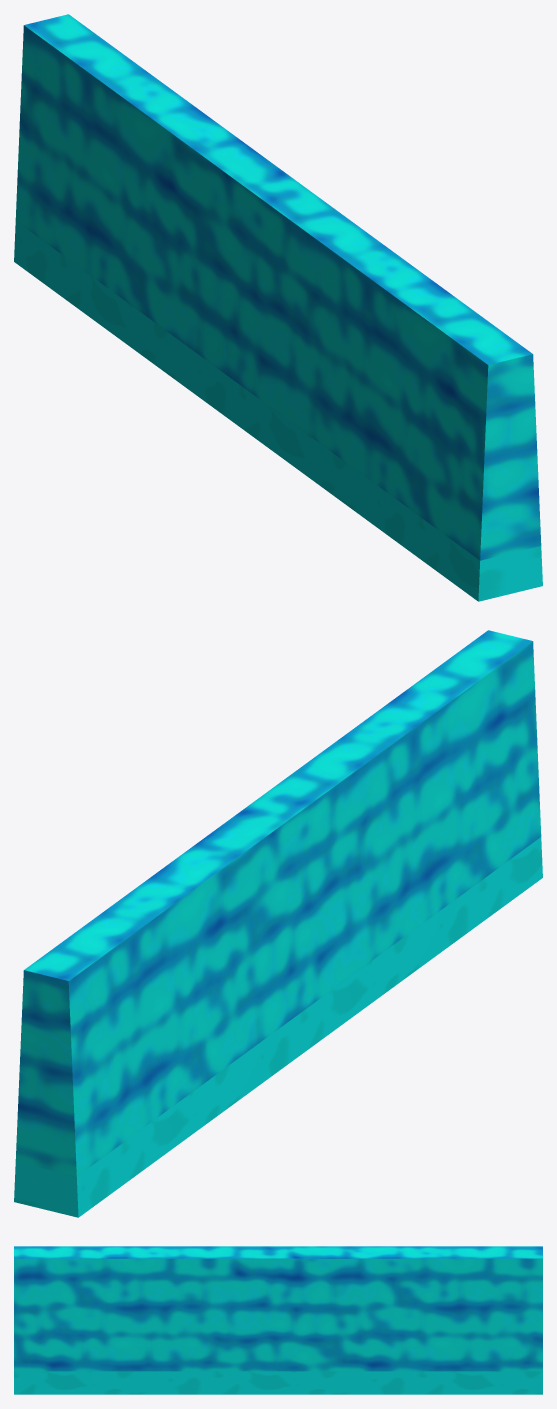
Rendered from SM_Muraille_Decoration_01.fbx.
The picture shows the model from 3 angles, top to bottom: view 1: azimuth 30°, elevation 25°; view 2: azimuth 150°, elevation 25°; view 3: azimuth 270°, elevation 25°; orthographic projection. The views are drawn at different scales.
Visible parts, largest first — view 1: SM_Muraille_Decoration_01; view 2: SM_Muraille_Decoration_01; view 3: SM_Muraille_Decoration_01.
Boxes of the visible parts, x1=… form: SM_Muraille_Decoration_01: x1=14, y1=14, x2=542, y2=601; SM_Muraille_Decoration_01: x1=14, y1=630, x2=542, y2=1217; SM_Muraille_Decoration_01: x1=14, y1=1246, x2=542, y2=1394.
Bounding box in the file's own units: 2.57 × 8.91 × 32.02.
1 material, 1 textured.
